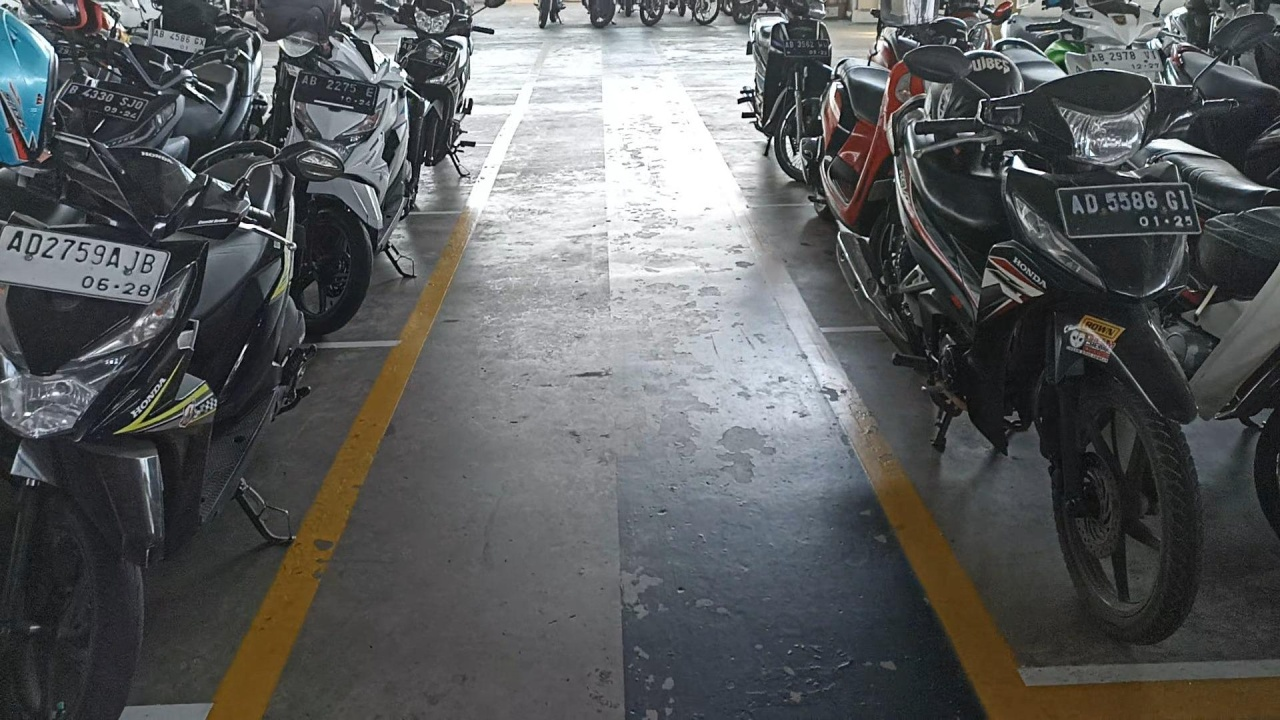plate: (0, 225, 171, 304), (1057, 183, 1202, 238), (293, 71, 379, 115), (57, 82, 148, 121), (1088, 49, 1164, 76), (784, 39, 830, 57)
